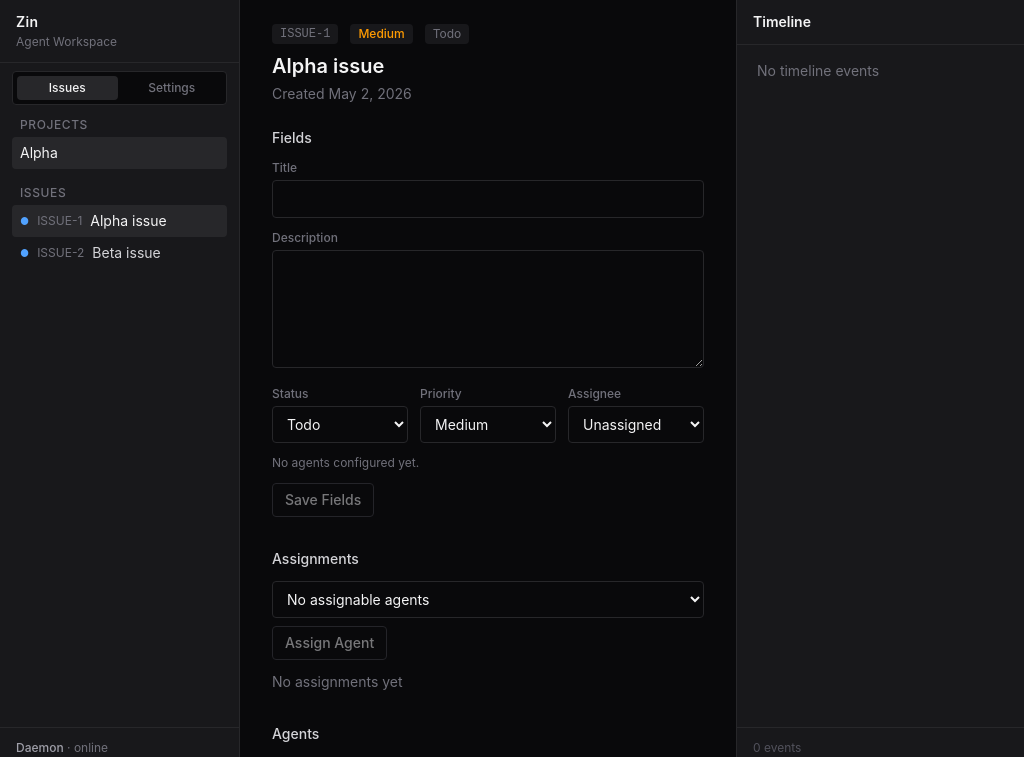
Test case: App › ignores stale mutation reloads after selecting another issue
The image size is (1024, 757).
Expected: the heading "Alpha issue" is shown, [272,54,384,78]
Type "Alpha updated" into the field labelled "Title".
click(488, 199); type("Alpha updated")  # box [272,180,704,218]
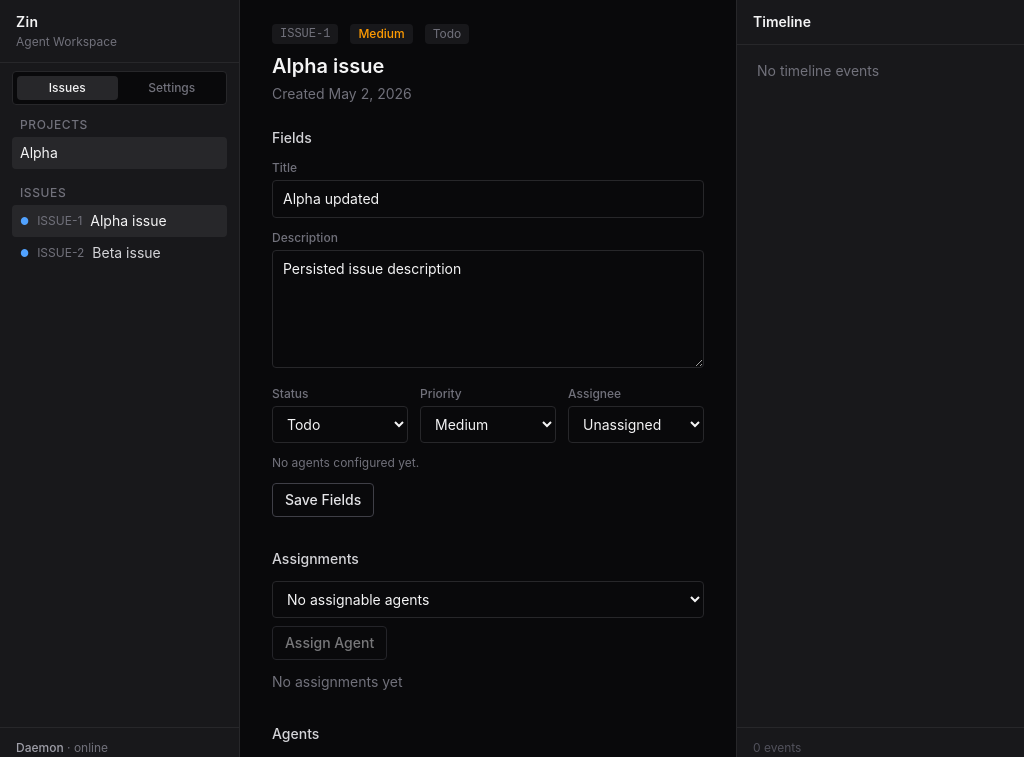
Click the button "Save Fields".
click(323, 500)  # box [272,483,374,517]
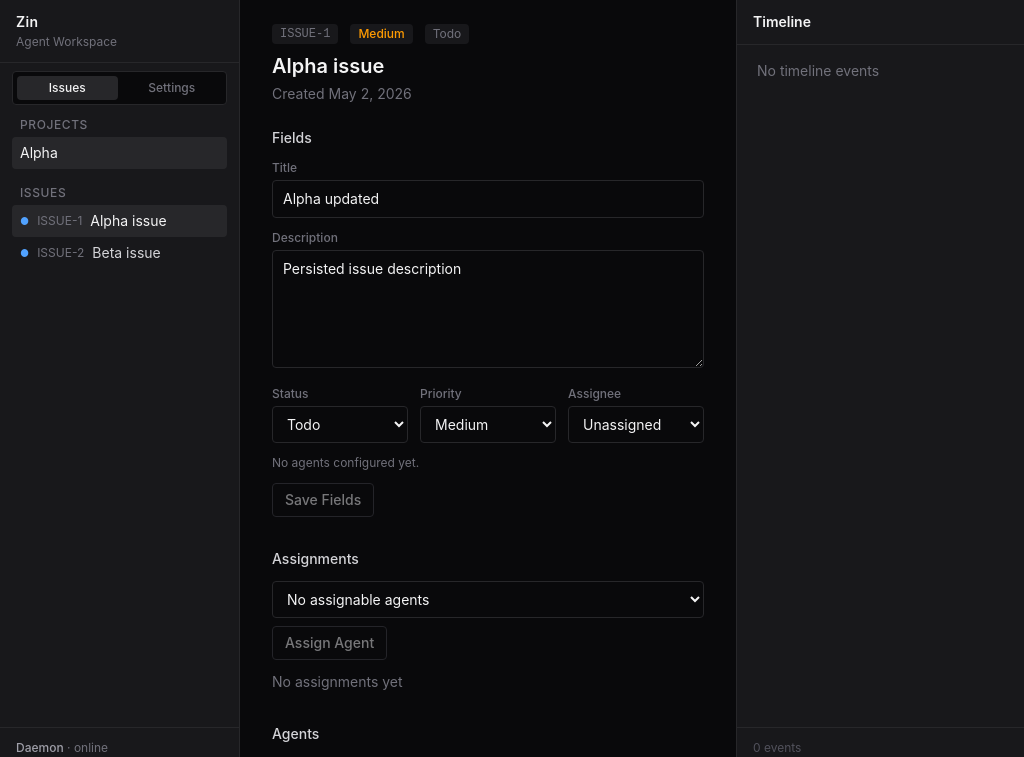
Click the button "● ISSUE-2 Beta issue".
click(120, 253)  # box [12,237,227,269]
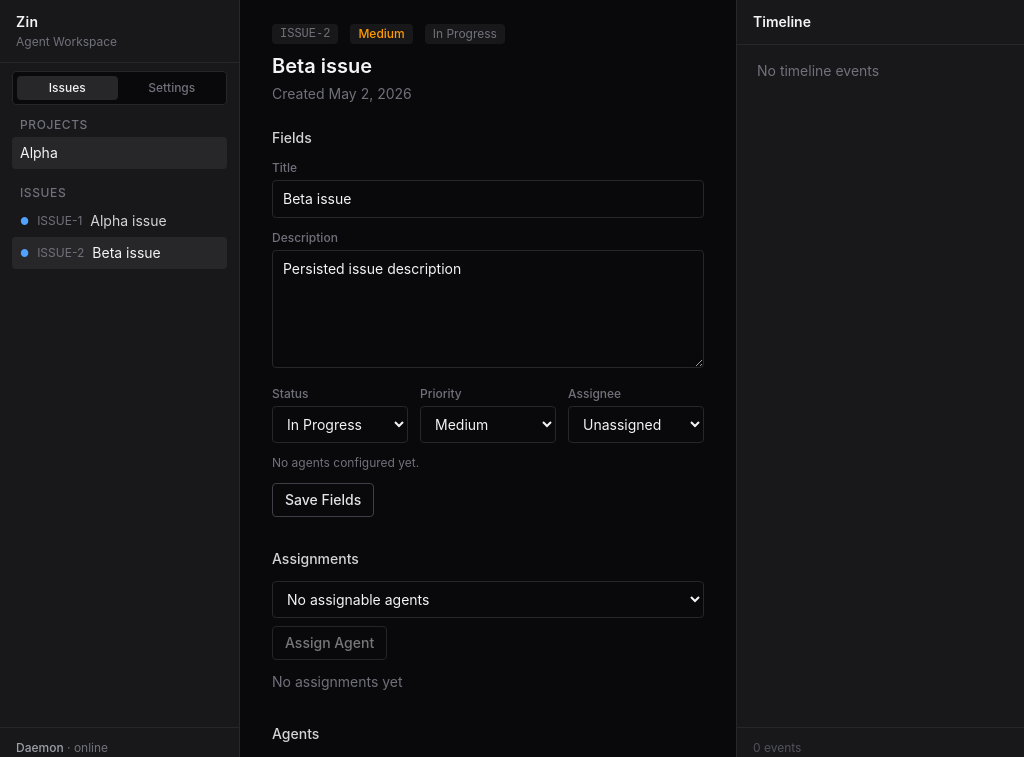
Expected: the heading "Alpha updated" is not shown
Expected: the heading "Beta issue" is shown, [272,54,372,78]
